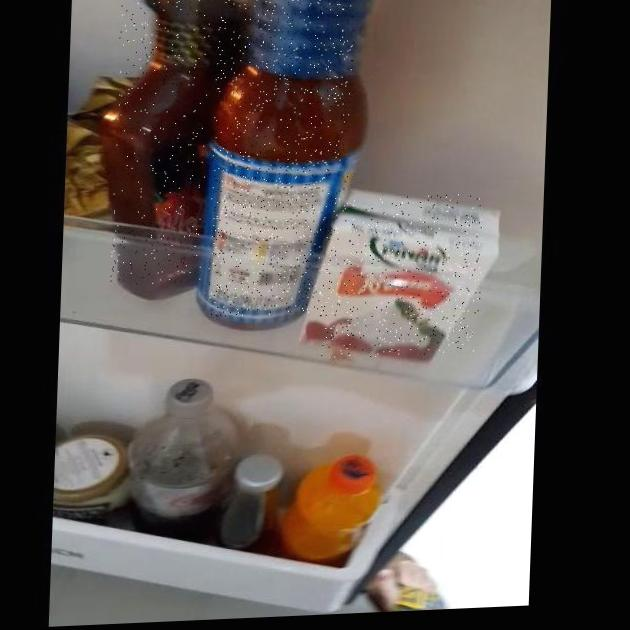cream: (318, 193, 484, 359)
sauce: (206, 0, 356, 317), (110, 0, 211, 286)
